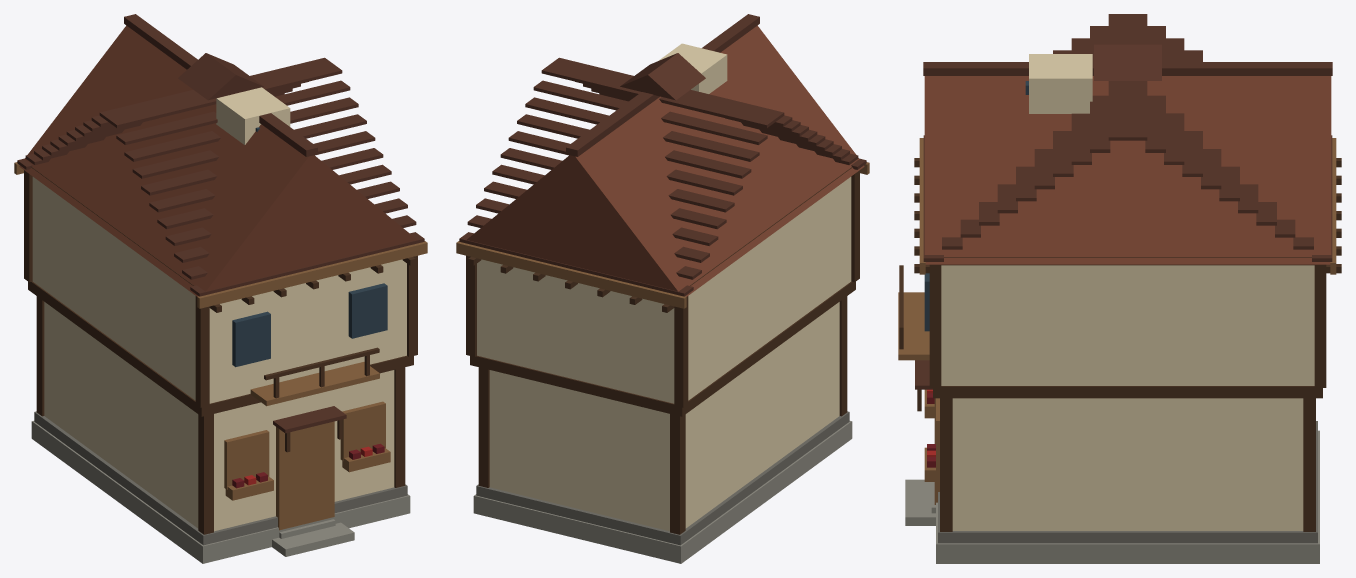
File: house_row.glb
3 views of the same model, side by side, from view 1: azimuth 30°, elevation 25°; view 2: azimuth 150°, elevation 25°; view 3: azimuth 270°, elevation 25° (orthographic). The views are drawn at different scales.
Parts seen in each view (by area): view 1: house_row; view 2: house_row; view 3: house_row.
Boxes of the visible parts, x1,y1,x2,y2 form: house_row: [14, 14, 427, 563]; house_row: [456, 14, 869, 563]; house_row: [898, 14, 1341, 563].
Bounding box in the file's own units: 4.62 × 7.98 × 6.93.
